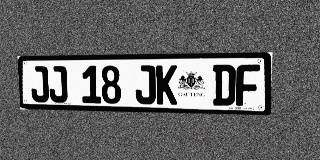1: (81, 66, 101, 103)
8: (101, 65, 121, 104)
D: (213, 65, 236, 106)
F: (236, 64, 260, 106)
J: (135, 65, 156, 104), (48, 66, 68, 103), (30, 66, 49, 102)
K: (156, 65, 177, 105)
